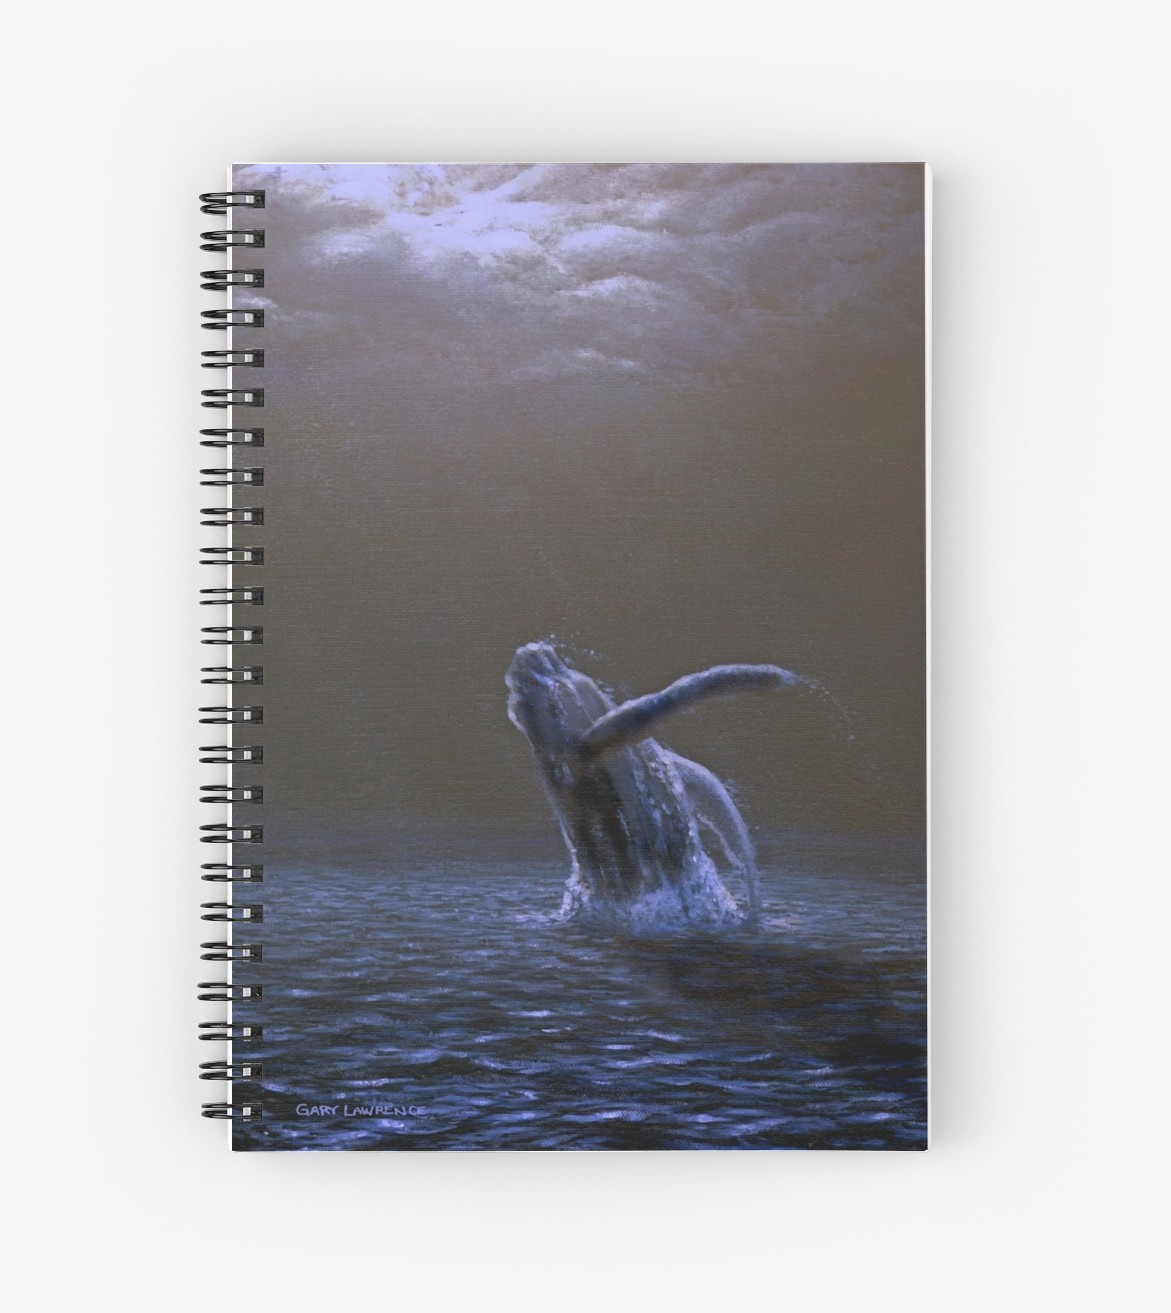humpback: (505, 640, 736, 927)
